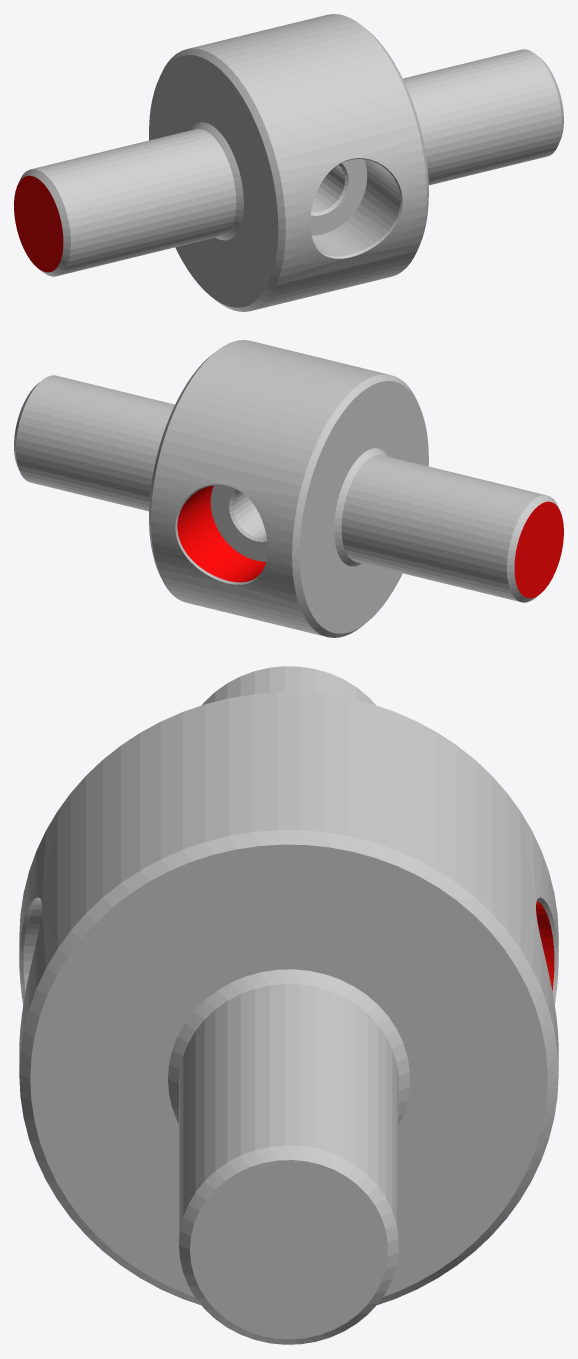
The model's file is 14__stp_16_1.obj.
3 renders of one model, top to bottom at view 1: azimuth 30°, elevation 25°; view 2: azimuth 150°, elevation 25°; view 3: azimuth 270°, elevation 25°, orthographic. The views are drawn at different scales.
Parts seen in each view (by area): view 1: Object1; view 2: Object1; view 3: Object1.
Boxes of the visible parts, x1=… form: Object1: x1=14, y1=14, x2=563, y2=311; Object1: x1=14, y1=340, x2=563, y2=637; Object1: x1=19, y1=666, x2=558, y2=1344.
Size of the model in its own units: 210 by 97.9 by 98.
